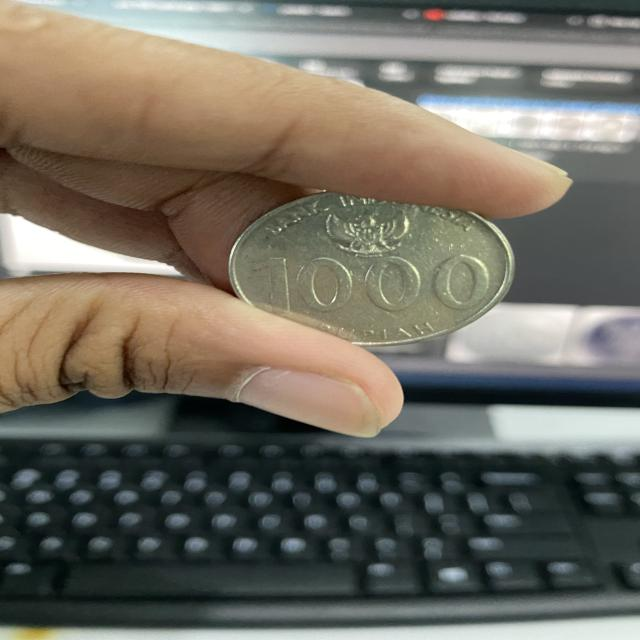1000-angklung: (230, 180, 552, 368)
